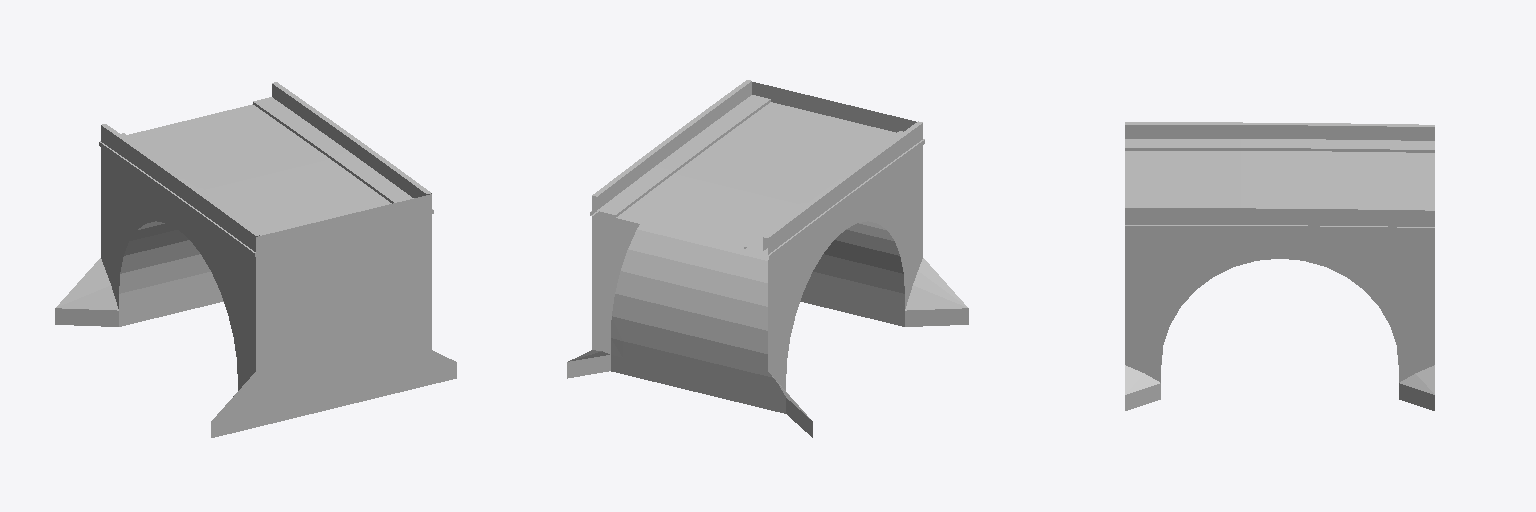
File: bridge.obj
The picture shows the model from 3 angles: view 1: azimuth 30°, elevation 25°; view 2: azimuth 150°, elevation 25°; view 3: azimuth 270°, elevation 25°; orthographic projection.
Parts seen in each view (by area): view 1: TowerBridge.001; view 2: TowerBridge.001; view 3: TowerBridge.001.
Boxes of the visible parts, box(x1,y1,x2,y2) form: TowerBridge.001: box(55, 82, 456, 437); TowerBridge.001: box(567, 80, 968, 437); TowerBridge.001: box(1125, 122, 1434, 410).
Bounding box in the file's own units: 15.54 × 11.55 × 17.